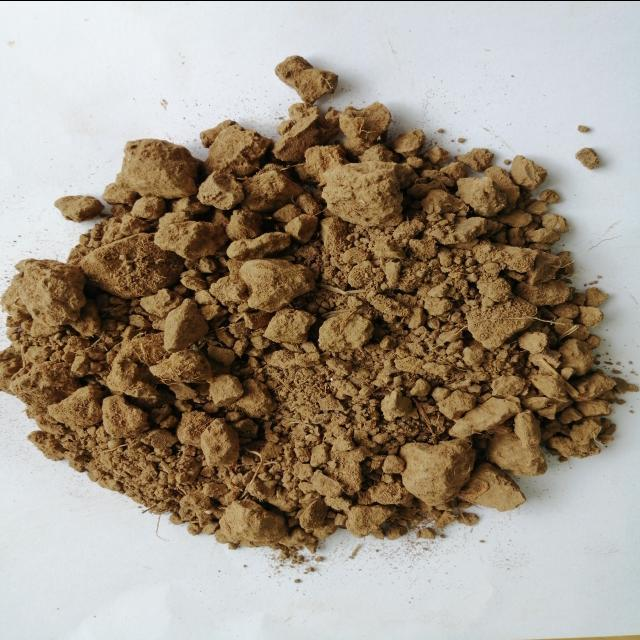soil: (96, 166, 520, 498)
